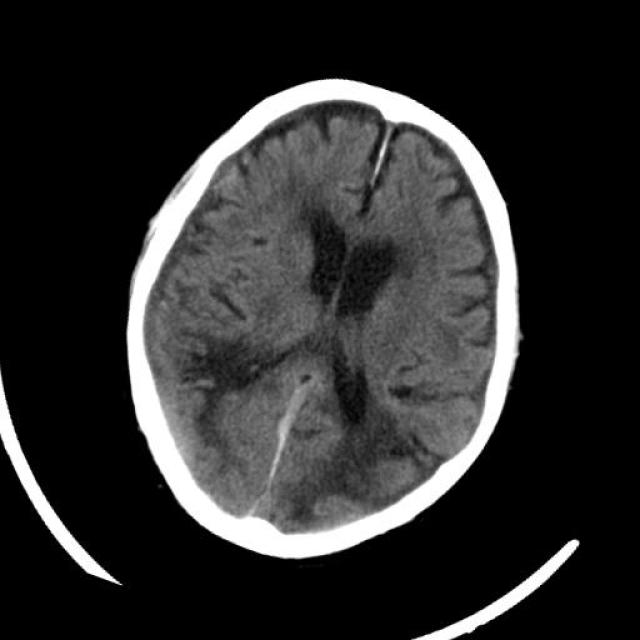Subdural: (220, 363, 325, 532)
